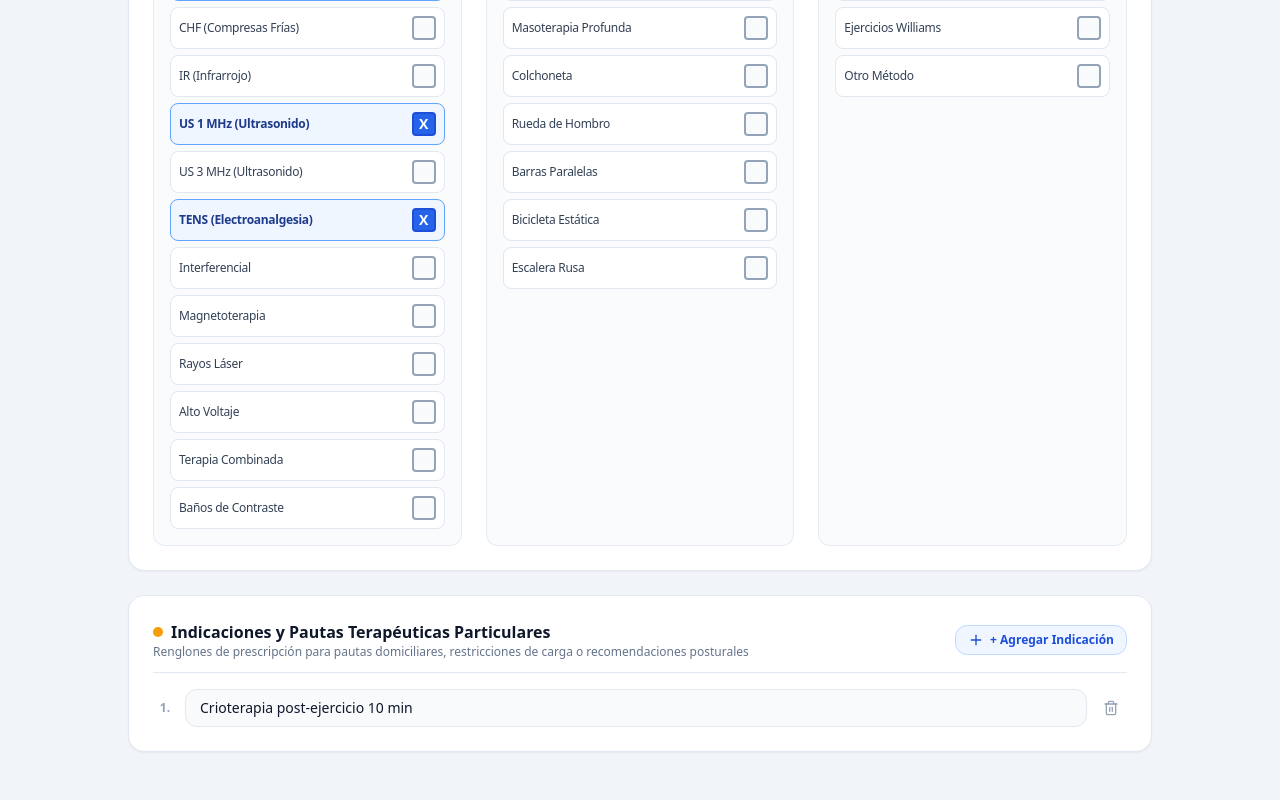
FormularioTarjeton Component (Editor Reactivo de Prescripción Fisioterapéutica) › debe permitir agregar y eliminar renglones dinámicos de indicaciones adicionales
(page scrolled)
Check: the field showing "Crioterapia post-ejercicio 10 min" is shown, box [185,689,1087,727]
Click the button "+ Agregar Indicación": x=1041, y=640 [955,625,1127,655]
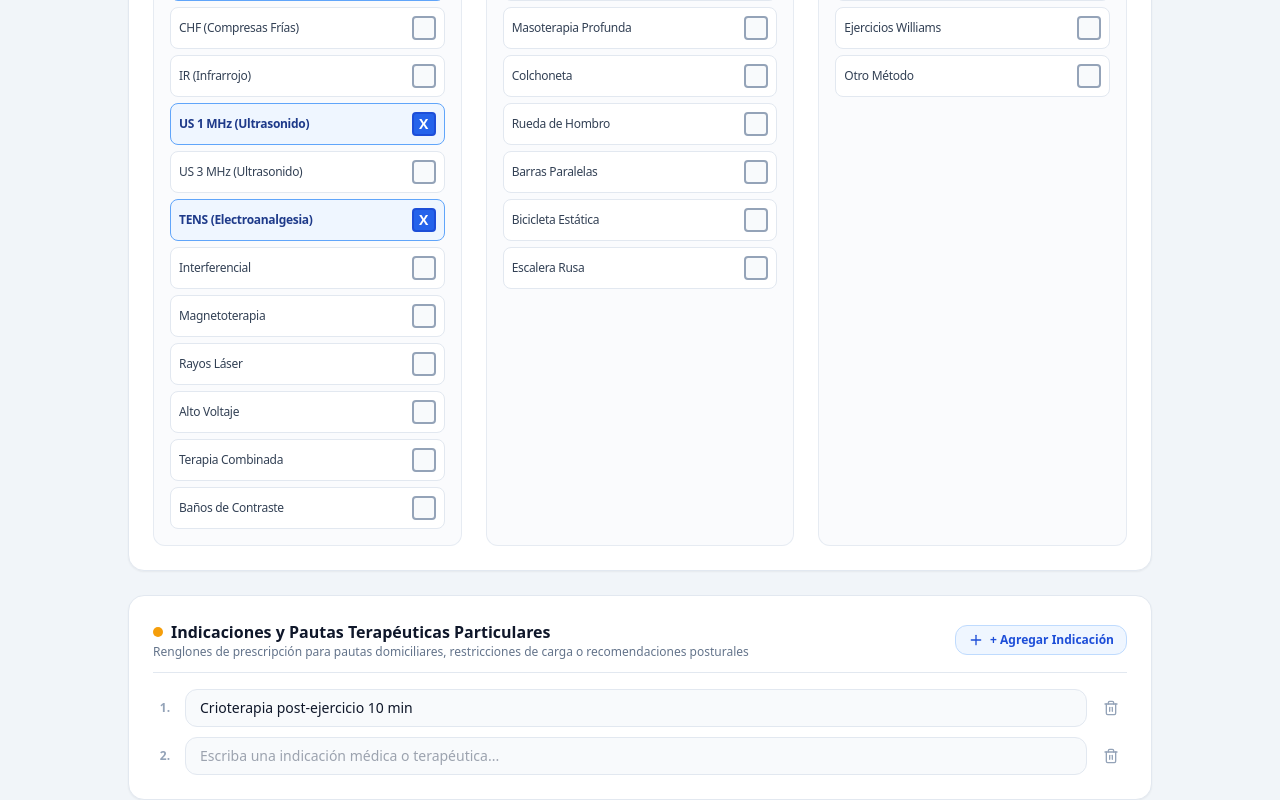
Check: the number of fields with placeholder "Escriba una indicación médica o terapéutica..." is 2
Escribir en la nueva indicación
In the field with placeholder "Escriba una indicación médica o terapéutica...": x=636, y=756 [185,737,1087,775], type "Ejercicios de estiramiento 3 veces al día"
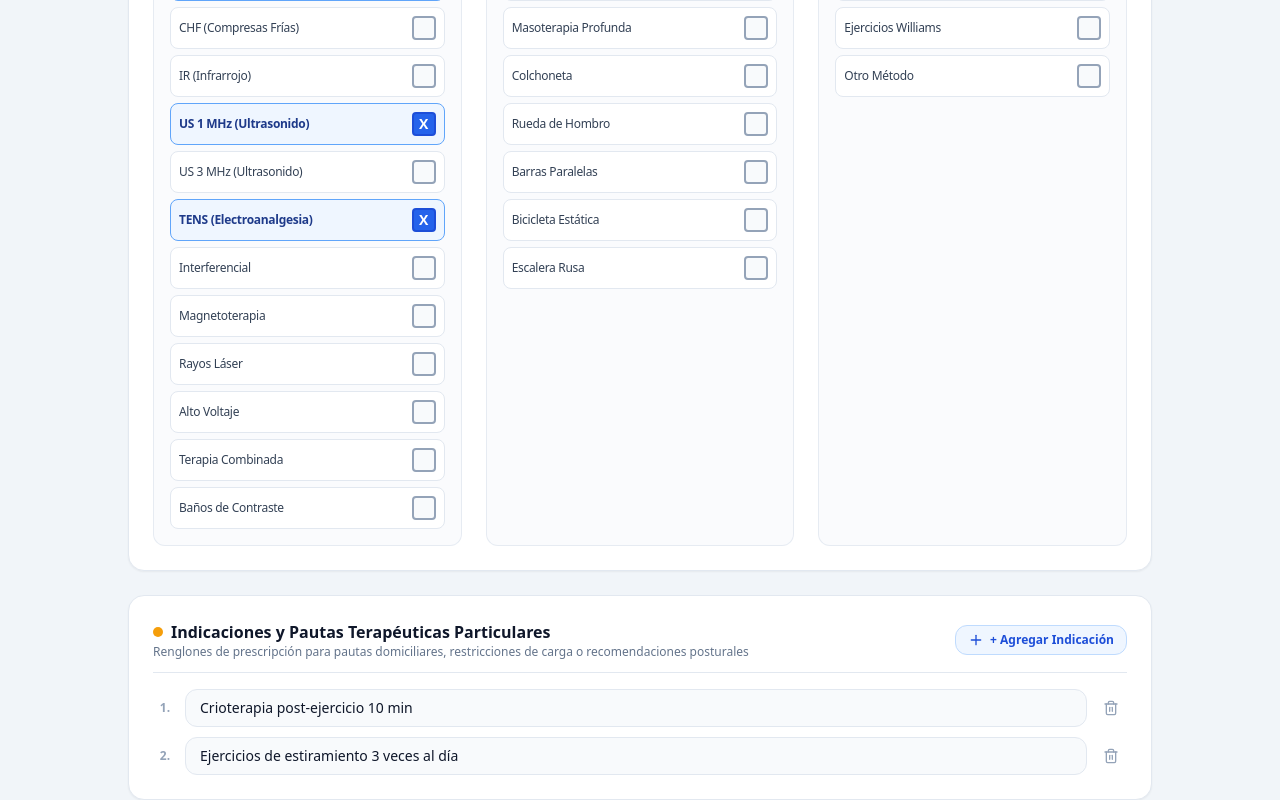
Eliminar el primer renglón
Click the 1st button with test id "boton-eliminar-indicacion": x=1111, y=708 [1095,692,1127,724]
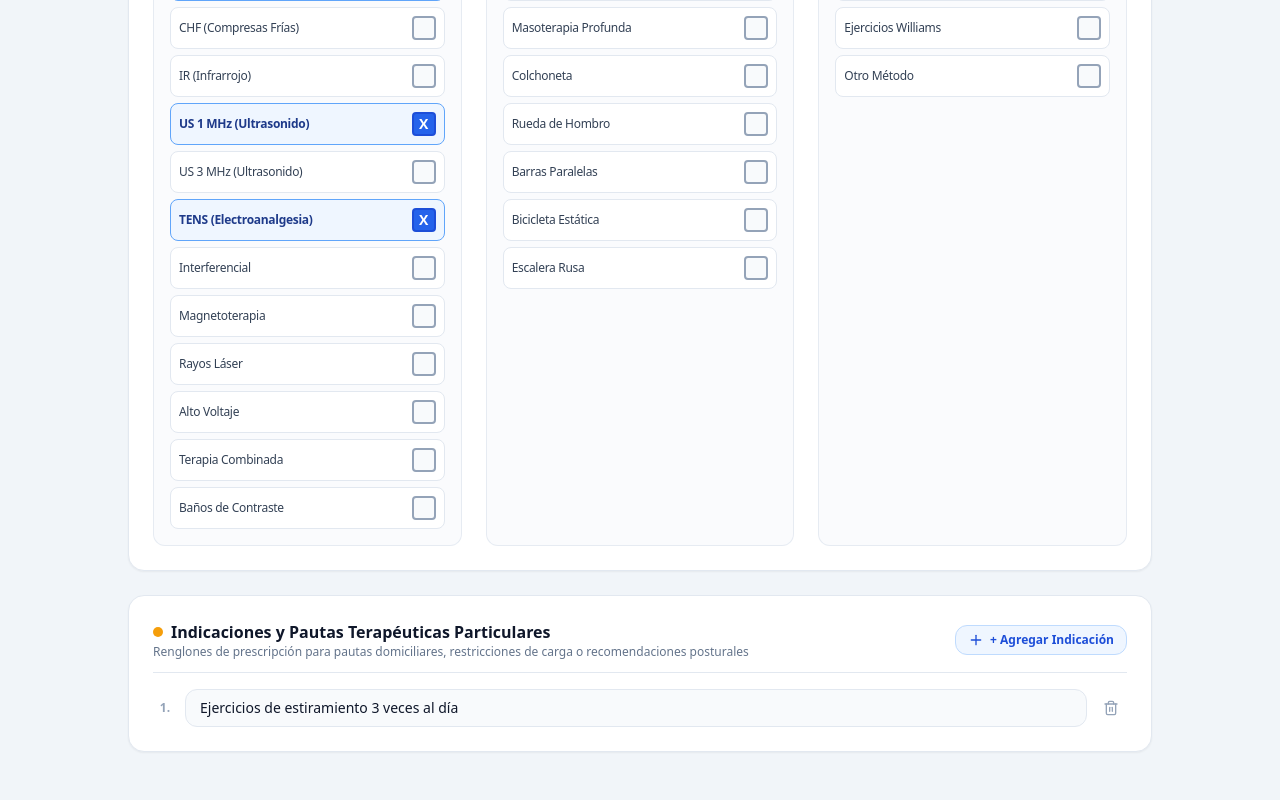
Check: the number of fields with placeholder "Escriba una indicación médica o terapéutica..." is 1, box [185,689,1087,727]
